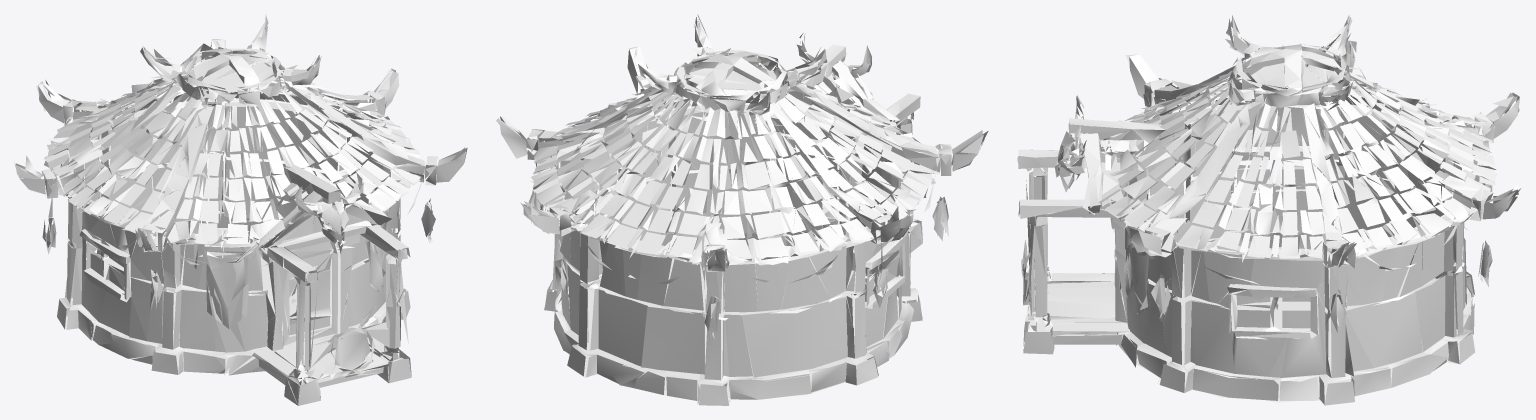
Rendered from yurt_noble_lod1.glb.
3 views of the same model, side by side, from view 1: azimuth 30°, elevation 25°; view 2: azimuth 150°, elevation 25°; view 3: azimuth 270°, elevation 25° (orthographic). The views are drawn at different scales.
Visible parts, largest first — view 1: yurt_noble; view 2: yurt_noble; view 3: yurt_noble.
Part boxes in pixels (left/top/right/bottom): yurt_noble: left=14, top=14, right=467, bottom=405; yurt_noble: left=496, top=14, right=988, bottom=405; yurt_noble: left=1017, top=15, right=1520, bottom=405.
Size of the model in its own units: 12.53 by 8.03 by 13.07.
Materials: 1 (1 with a texture image).
